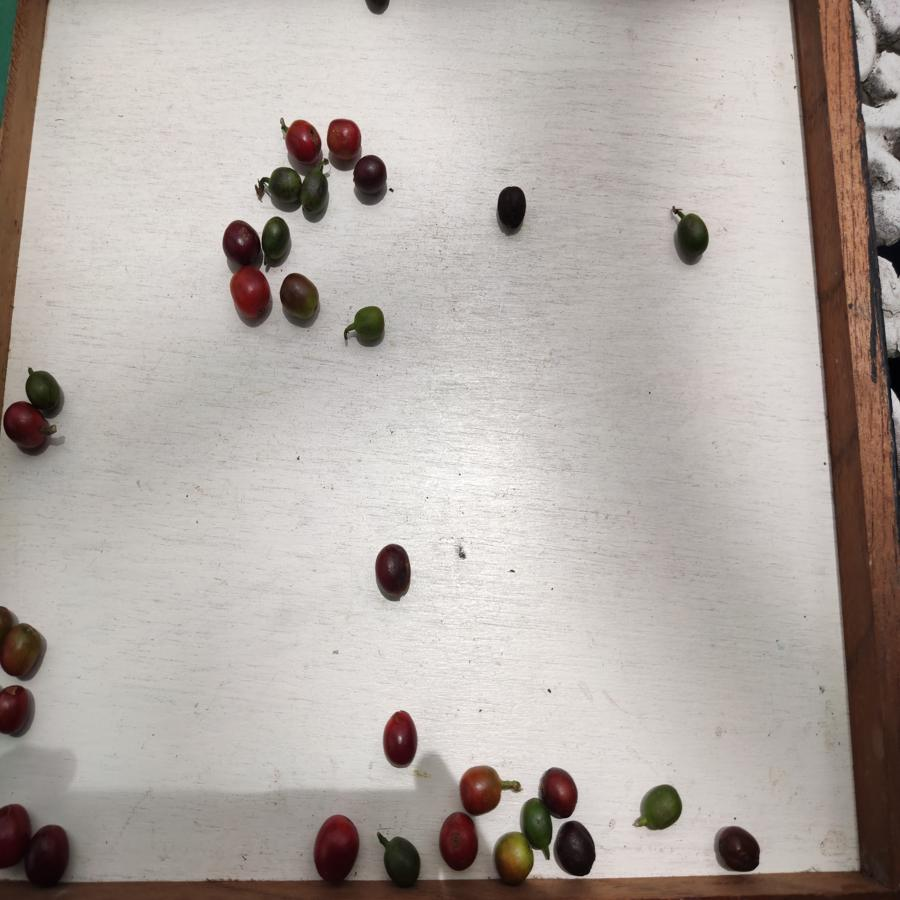Inmaduro: (379, 835, 424, 885), (668, 211, 712, 260), (641, 782, 681, 832), (24, 369, 63, 416), (523, 797, 553, 850), (267, 165, 303, 207), (349, 305, 384, 346), (300, 170, 333, 213), (262, 216, 290, 262)
Maduro: (229, 267, 271, 324), (439, 814, 480, 870), (459, 766, 503, 815), (322, 117, 362, 158), (284, 120, 322, 162)
Pinton: (1, 620, 45, 681), (278, 273, 322, 325), (494, 830, 533, 883)
Sobremaduro: (314, 812, 359, 881), (21, 824, 70, 887), (2, 403, 50, 458), (554, 821, 600, 874), (716, 822, 763, 873), (373, 544, 413, 603), (384, 709, 419, 771), (1, 801, 32, 871), (1, 684, 31, 750), (546, 767, 580, 818), (221, 218, 260, 261), (495, 185, 529, 233), (350, 155, 390, 195)
